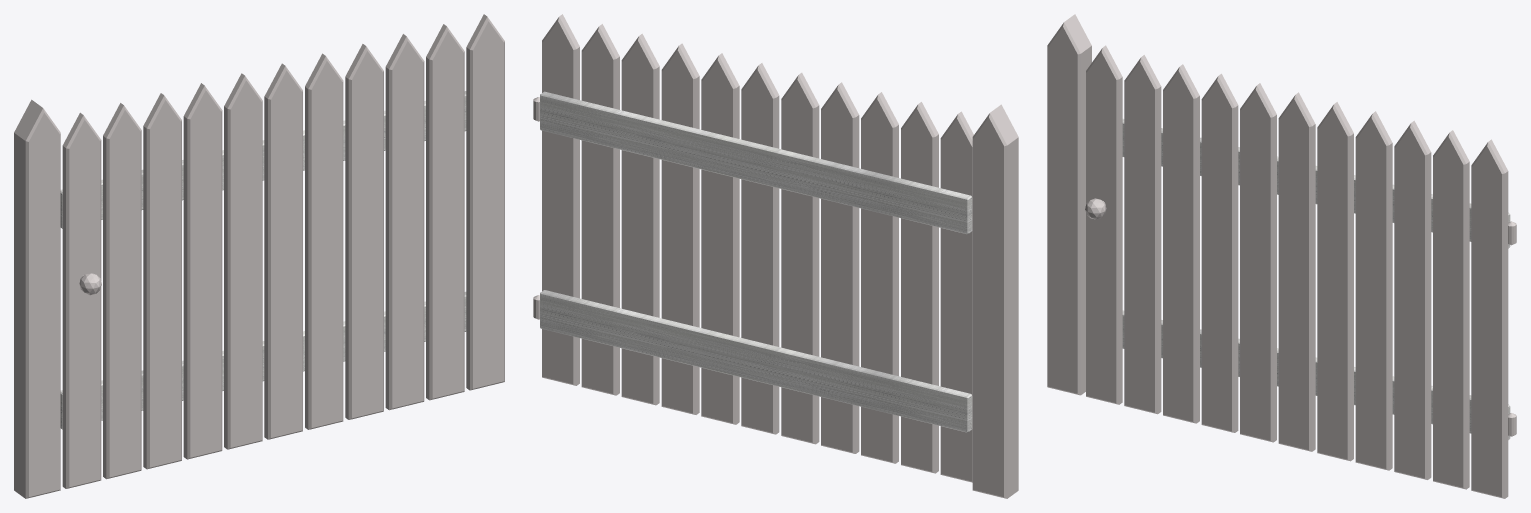
3 renders of one model, left to right at view 1: azimuth 30°, elevation 25°; view 2: azimuth 150°, elevation 25°; view 3: azimuth 330°, elevation 25°, orthographic. The views are drawn at different scales.
Parts seen in each view (by area): view 1: 3D学院 模型无限; view 2: 3D学院 模型无限; view 3: 3D学院 模型无限.
Boxes of the visible parts, left/top/right/bottom form: 3D学院 模型无限: left=14, top=14, right=504, bottom=498; 3D学院 模型无限: left=533, top=14, right=1018, bottom=498; 3D学院 模型无限: left=1047, top=14, right=1516, bottom=498.
Size of the model in its own units: 2.4 by 1.83 by 0.2173.
